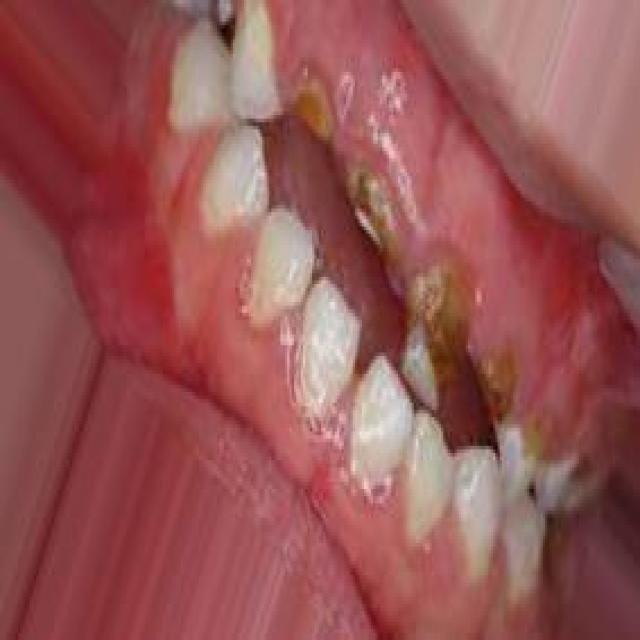caries: (394, 259, 470, 401), (340, 162, 401, 258), (283, 58, 334, 149), (475, 334, 521, 425)
